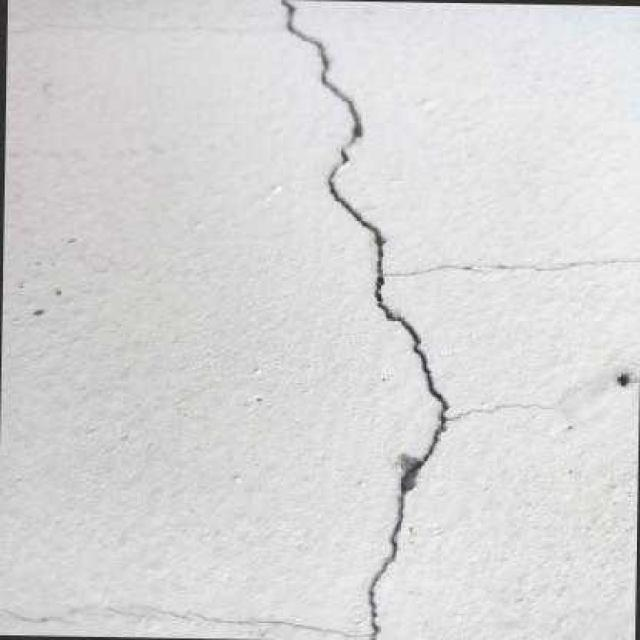D00: (281, 0, 447, 639)
